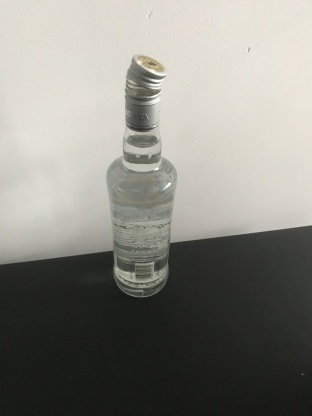nakretka: (123, 52, 168, 131)
